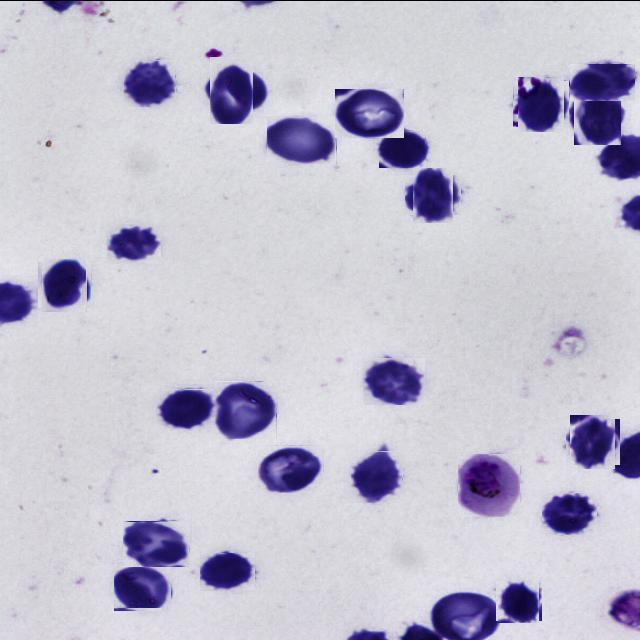red blood cell: (214, 380, 277, 438), (335, 88, 404, 137), (266, 115, 336, 163), (258, 444, 324, 492), (123, 520, 190, 566), (204, 61, 258, 118), (363, 356, 426, 404), (114, 562, 172, 610), (351, 450, 403, 502), (570, 62, 636, 100), (568, 416, 618, 466), (516, 78, 566, 128), (572, 92, 622, 142), (40, 260, 90, 310), (124, 59, 176, 106), (157, 388, 215, 428), (542, 492, 597, 534), (409, 170, 457, 218), (200, 552, 255, 590), (107, 225, 161, 263), (496, 578, 540, 622), (379, 130, 426, 167)
schizont: (458, 453, 520, 516)
